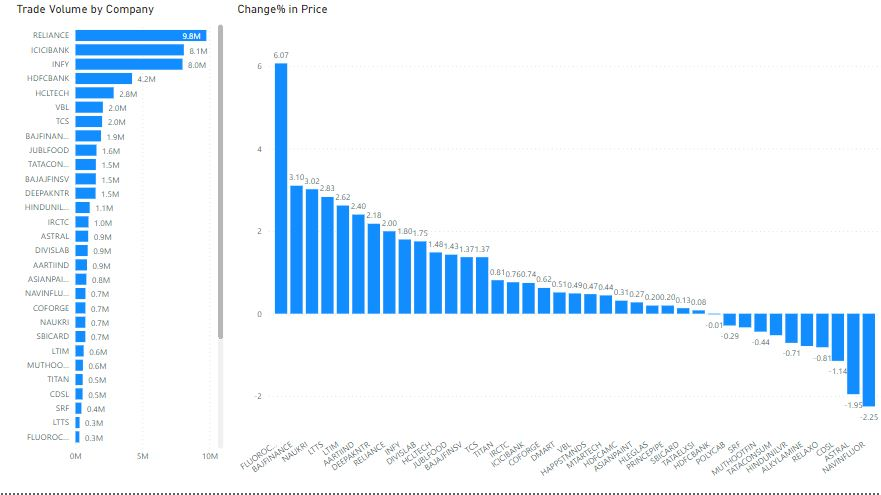

The page's visual inventory and layout, read from the dashboard file:
{"tool":"powerbi","page":{"name":"Page 1","canvas":[1280,720],"ordinal":0},"visuals":[{"type":"barChart","title":"Trade Volume by Company","fields":{"Category":["price.Company"],"Y":["Sum(price.Volume)"]},"box":[24.5,13,308.2,672.5],"z":0},{"type":"columnChart","title":"Change% in Price","fields":{"Category":["price.Company"],"Y":["Sum(price.Change%)"]},"box":[342.7,13,937.4,707],"z":1}]}

Visuals, with their boxes in screenshot pixels (x1, y1, x2, y2), scaled from the page's 1280x720 canvas onto the 881x495 screenshot:
"Trade Volume by Company" barChart: 17 9 229 471
"Change% in Price" columnChart: 236 9 880 494
